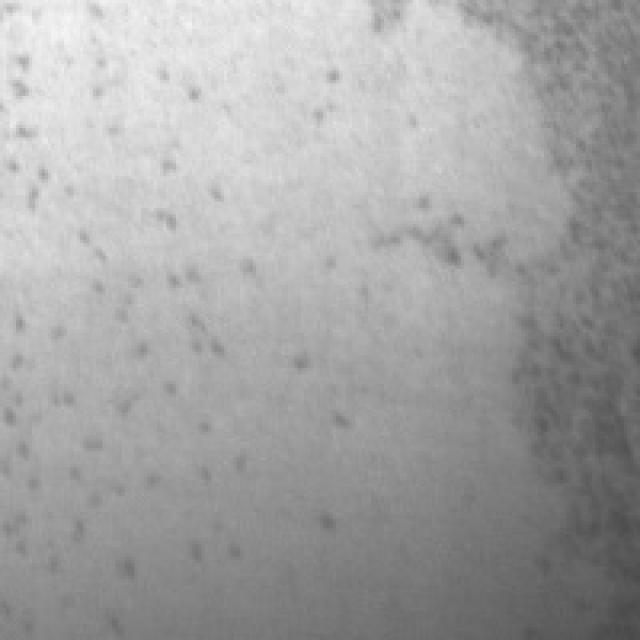pitted_surface: (6, 0, 262, 621), (426, 6, 636, 566)
